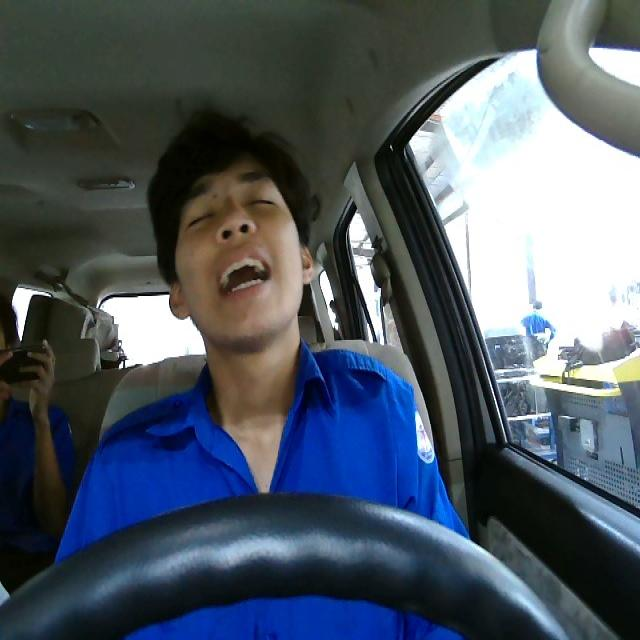yarning: (166, 154, 314, 342)
